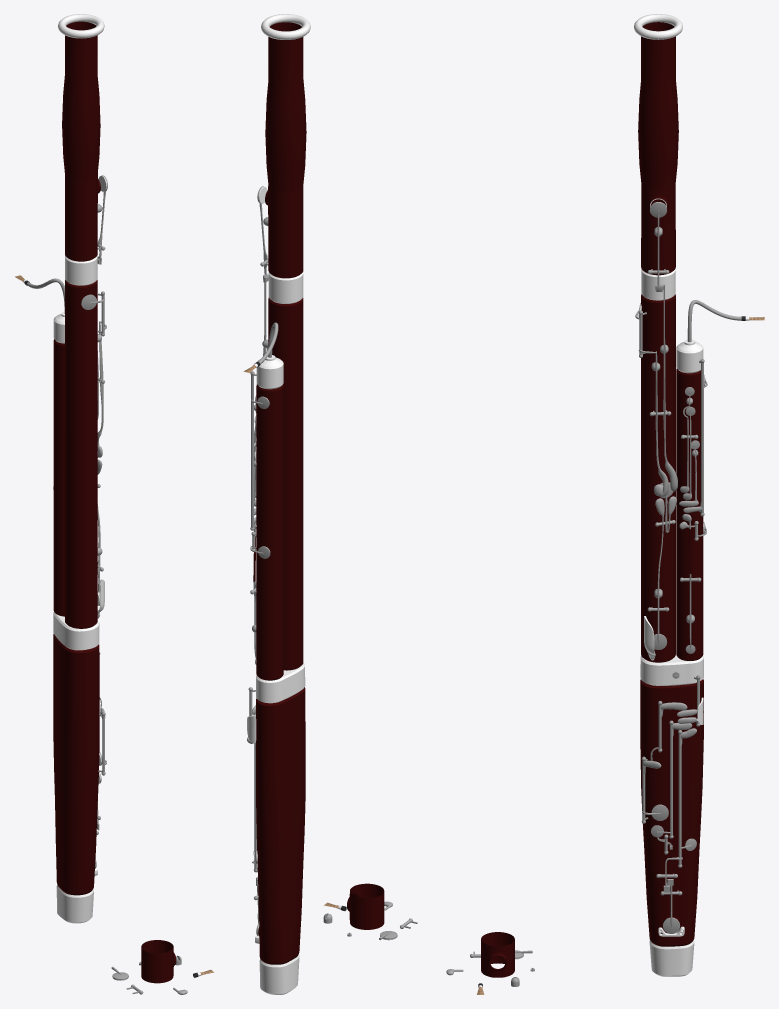
File: mobile.14c461ba977a.glb
3 views of the same model, side by side, from view 1: azimuth 30°, elevation 25°; view 2: azimuth 150°, elevation 25°; view 3: azimuth 270°, elevation 25° (orthographic). The views are drawn at different scales.
Visible parts, largest first — view 1: Bassoon_8, Hole_0; view 2: Bassoon_8, Hole_0; view 3: Bassoon_8, Hole_0.
Boxes of the visible parts, x1=… form: Bassoon_8: x1=15, y1=14, x2=107, y2=923; Hole_0: x1=141, y1=940, x2=176, y2=983; Bassoon_8: x1=243, y1=14, x2=310, y2=994; Hole_0: x1=347, y1=883, x2=384, y2=929; Bassoon_8: x1=634, y1=14, x2=764, y2=976; Hole_0: x1=481, y1=932, x2=514, y2=977.
Bounding box in the file's own units: 5.81 × 60.39 × 18.33.
Materials: 2 (2 with a texture image).
